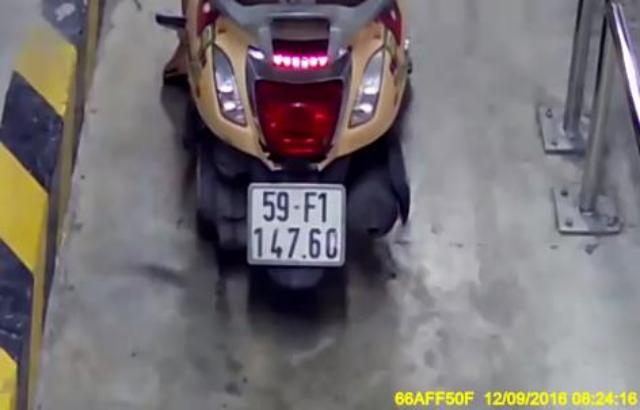plate: (240, 178, 354, 268)
